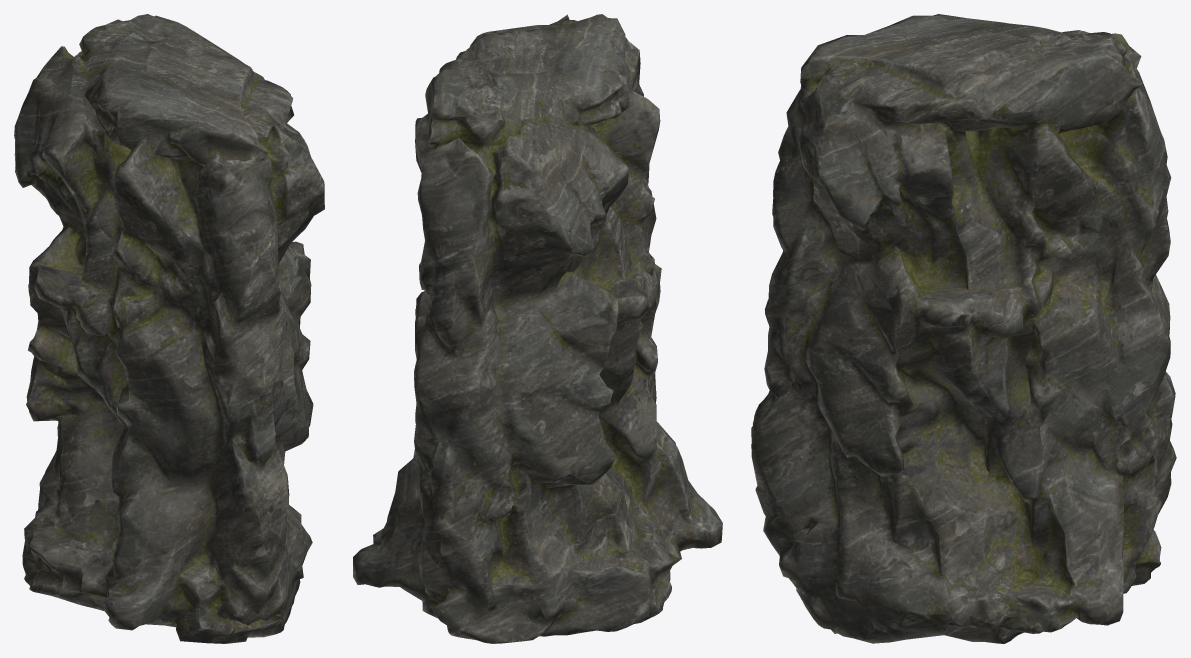
Rendered from SM_RockWall_A.fbx.
The picture shows the model from 3 angles, left to right: view 1: azimuth 30°, elevation 25°; view 2: azimuth 150°, elevation 25°; view 3: azimuth 270°, elevation 25°; orthographic projection. The views are drawn at different scales.
Parts seen in each view (by area): view 1: SM_RockWall_A_LOD0; view 2: SM_RockWall_A_LOD0; view 3: SM_RockWall_A_LOD0.
Part boxes in pixels (bbox=[...]): SM_RockWall_A_LOD0: bbox=[14, 14, 324, 643]; SM_RockWall_A_LOD0: bbox=[353, 14, 722, 643]; SM_RockWall_A_LOD0: bbox=[751, 14, 1176, 643].
Size of the model in its own units: 1255 by 1678 by 2515.
